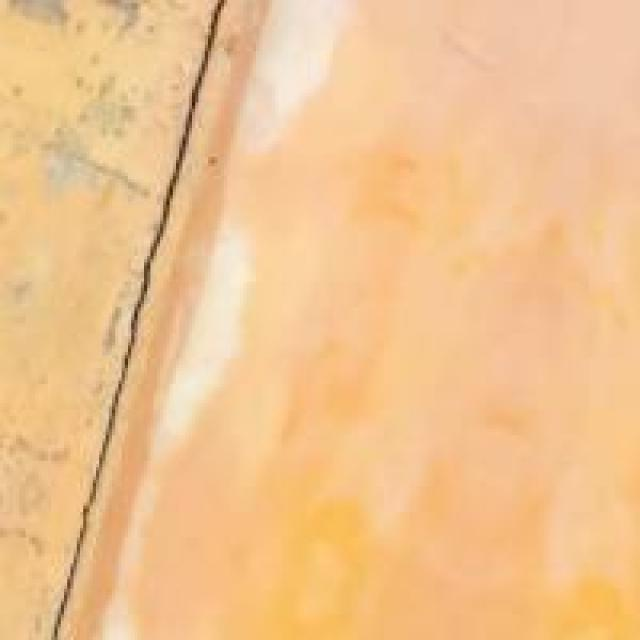crack: (48, 0, 294, 637)
